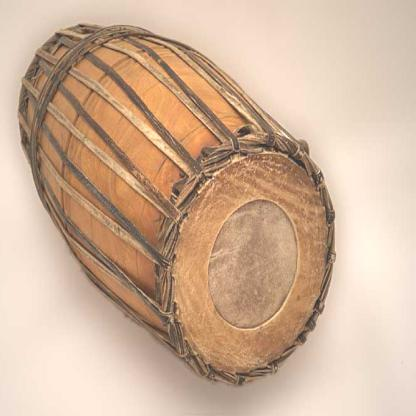Mridangam: (17, 12, 337, 388)
